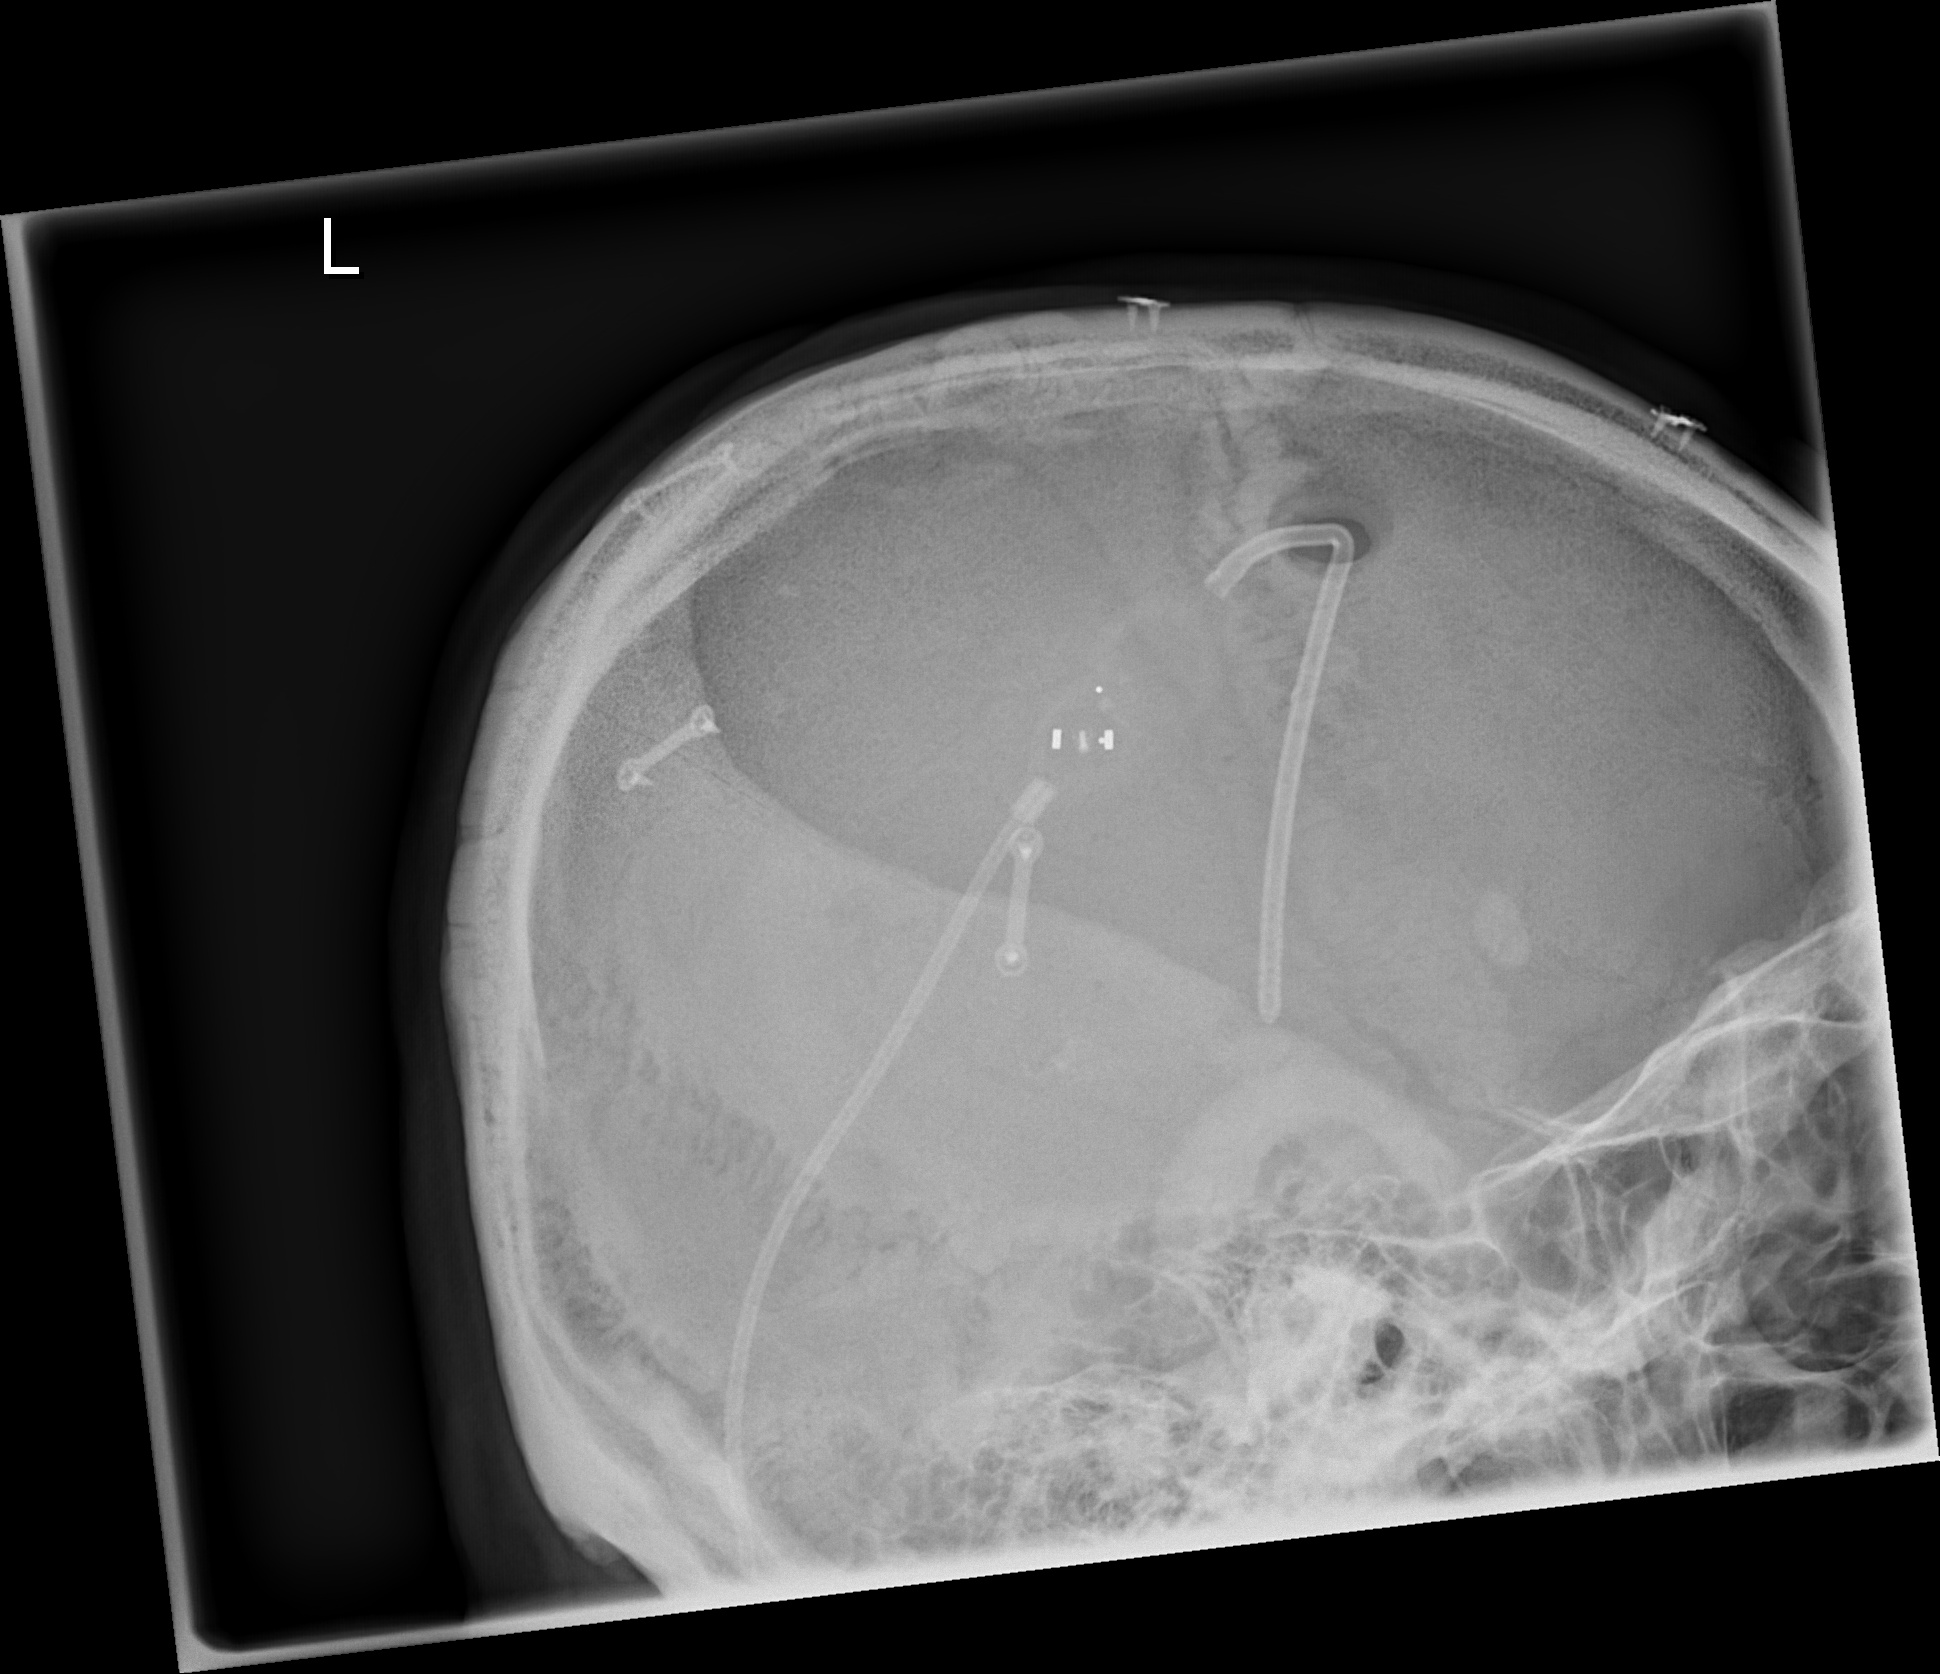Codman Certas: (1028, 676, 1133, 788)
